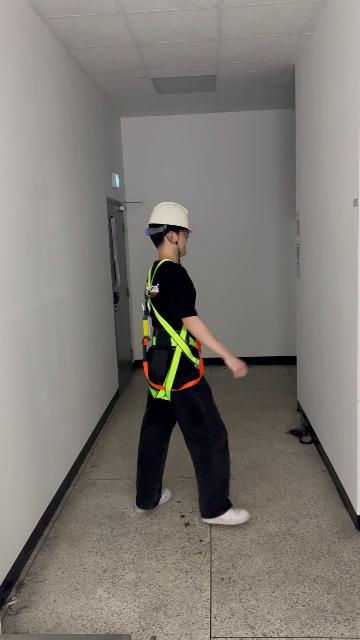helmet_worn: (146, 201, 195, 233)
shoe_not_worn: (200, 506, 250, 525), (135, 488, 171, 513)
vest_worn: (140, 264, 204, 399)
